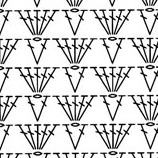enseble_chain: (30, 119, 66, 156), (105, 5, 140, 42), (106, 62, 141, 99), (30, 6, 65, 43), (31, 63, 66, 99), (67, 34, 102, 69), (106, 119, 140, 155), (124, 90, 154, 127), (13, 62, 43, 98), (12, 119, 42, 154), (101, 92, 132, 125), (51, 33, 79, 69), (0, 34, 28, 70), (0, 91, 27, 127), (127, 34, 155, 68), (27, 94, 57, 125), (90, 119, 118, 152), (66, 122, 94, 154), (68, 65, 94, 97), (92, 63, 116, 95), (68, 9, 93, 39), (93, 6, 116, 38), (31, 38, 55, 68), (18, 7, 41, 38), (134, 64, 156, 95), (0, 122, 20, 156), (0, 8, 19, 43), (135, 121, 156, 152), (0, 66, 19, 100), (68, 95, 85, 122), (142, 10, 158, 38), (143, 93, 158, 122), (143, 37, 158, 64)
fan: (91, 119, 117, 153), (60, 122, 81, 153), (140, 93, 158, 123), (61, 37, 80, 65), (23, 9, 39, 37), (30, 66, 46, 94), (143, 37, 158, 64), (106, 66, 121, 93)
